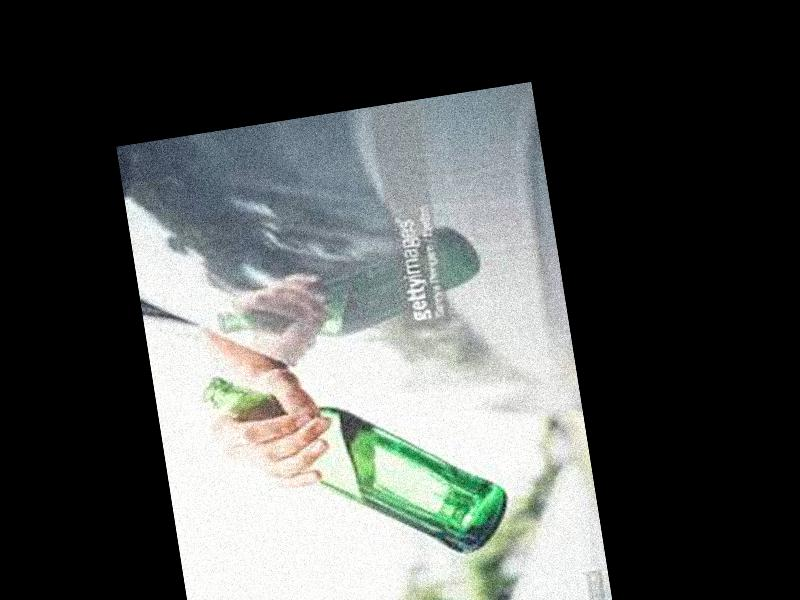Beer: (201, 332, 515, 587)
